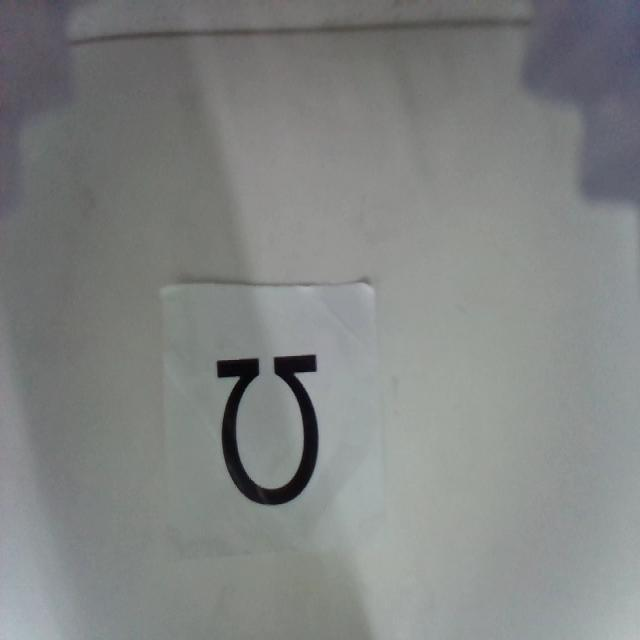OM: (212, 351, 324, 504)
